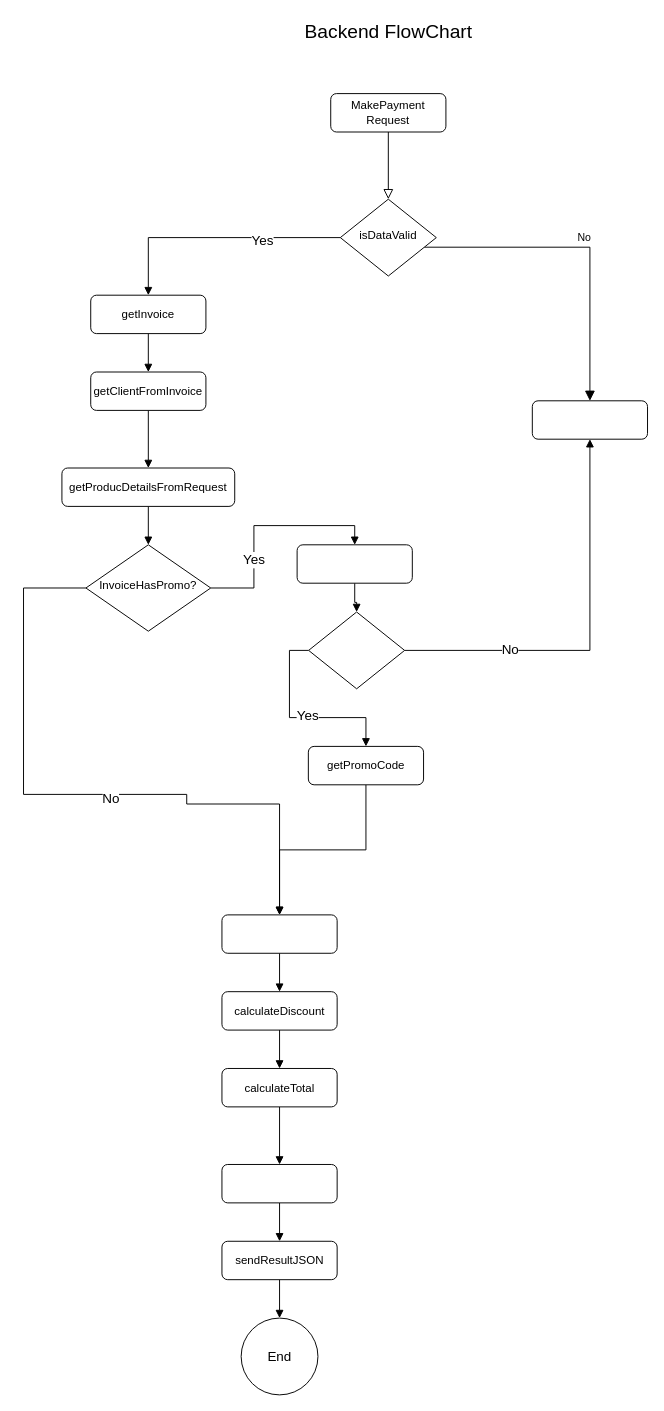
Image size: 664x1411. Some labels were removed from this diagram. Each missing label, with the centre of its shape:
"calculateSubTotal" goes at point 279,933.
"generateInvoice" goes at point 279,1183.
"isValidPromo?" goes at point 356,650.
"Throw an error" goes at point 589,419.
"validatePromoCode" goes at point 354,563.
